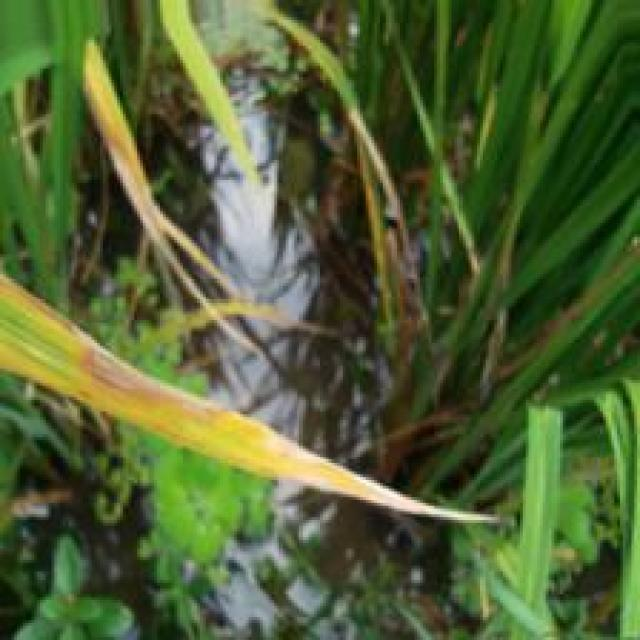Leaf_Scald: (4, 281, 186, 407)
